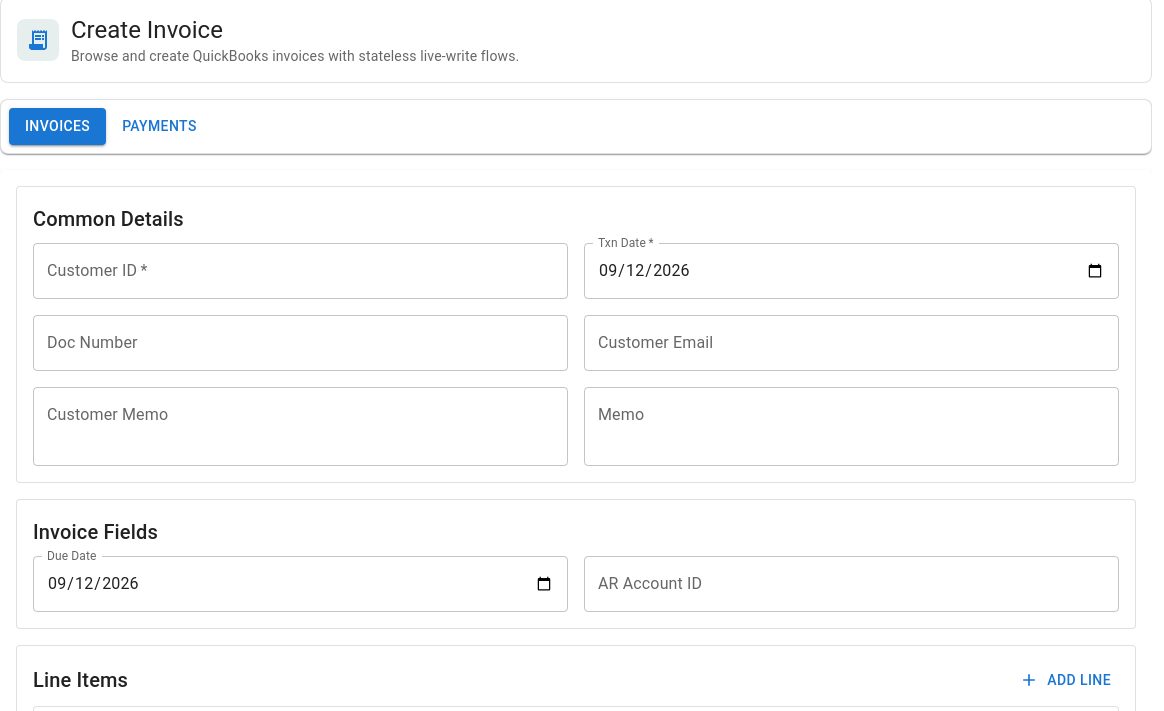
Test: QuickBooks write pages › creates a write transaction and refetches by landing on detail
Type "cust-2" into the field labelled "Customer ID *".
click(300, 270); type("cust-2")  # box [33, 242, 568, 298]
(page scrolled)
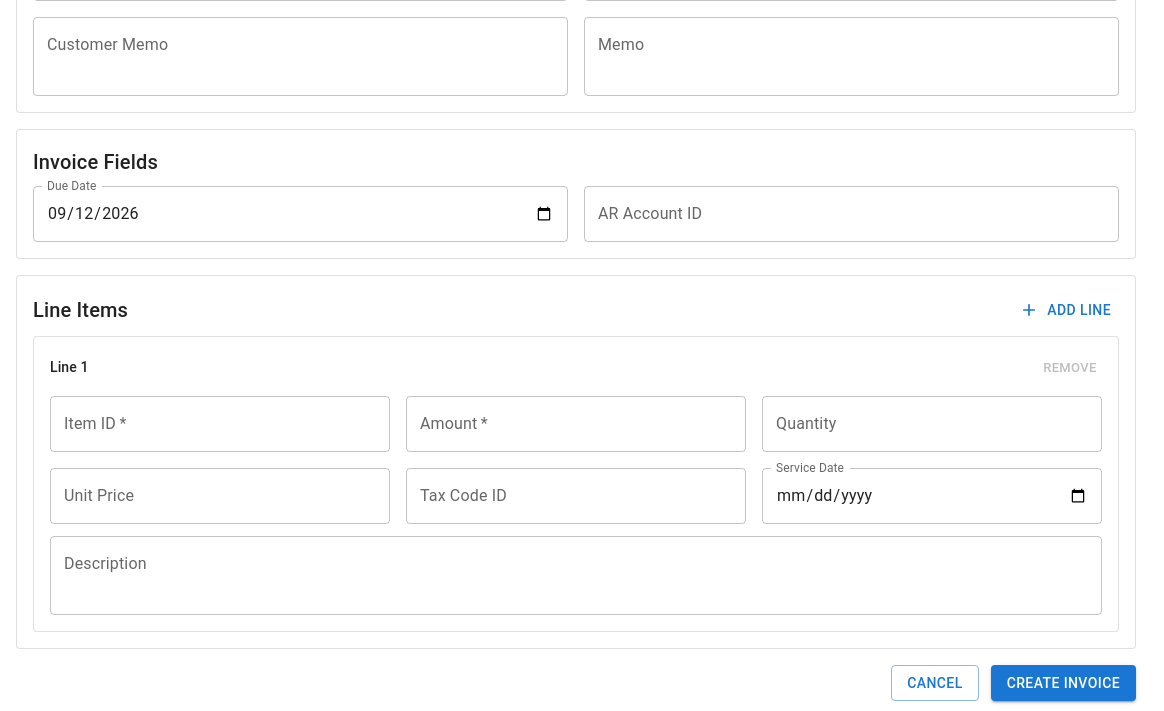
Type "item-1" into the field labelled "Item ID *".
click(220, 424); type("item-1")  # box [50, 396, 390, 452]
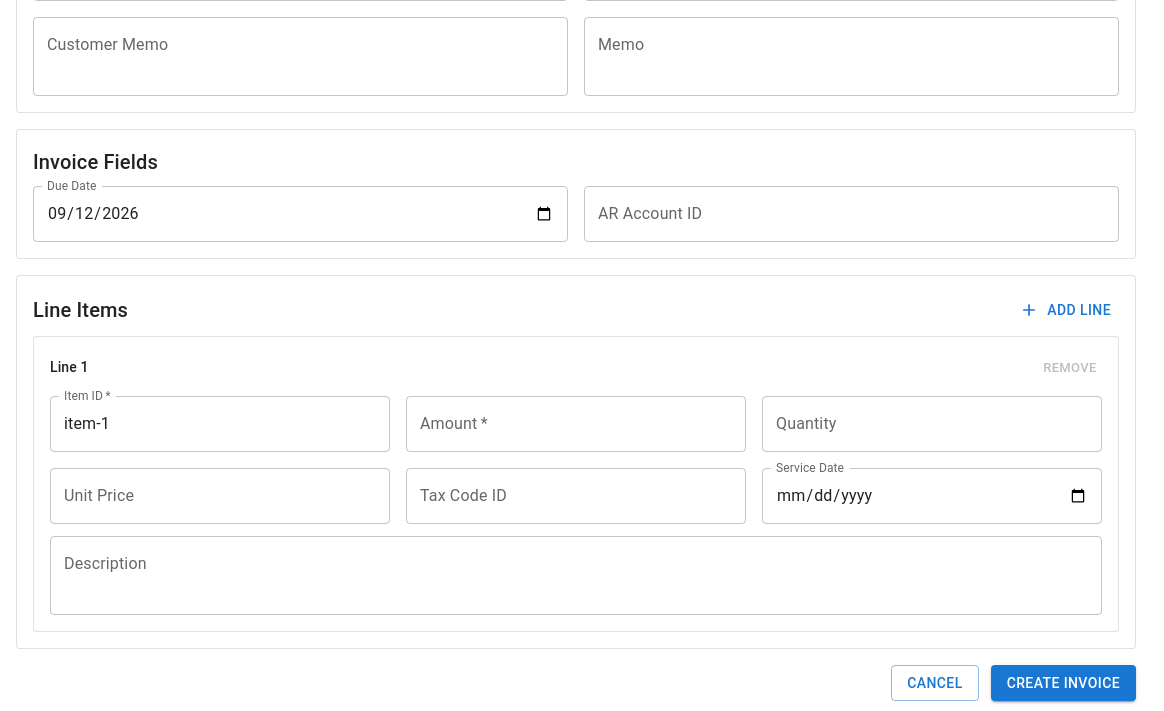
Type "45" into the number field labelled "Amount *".
click(576, 424); type("45")  # box [406, 396, 746, 452]
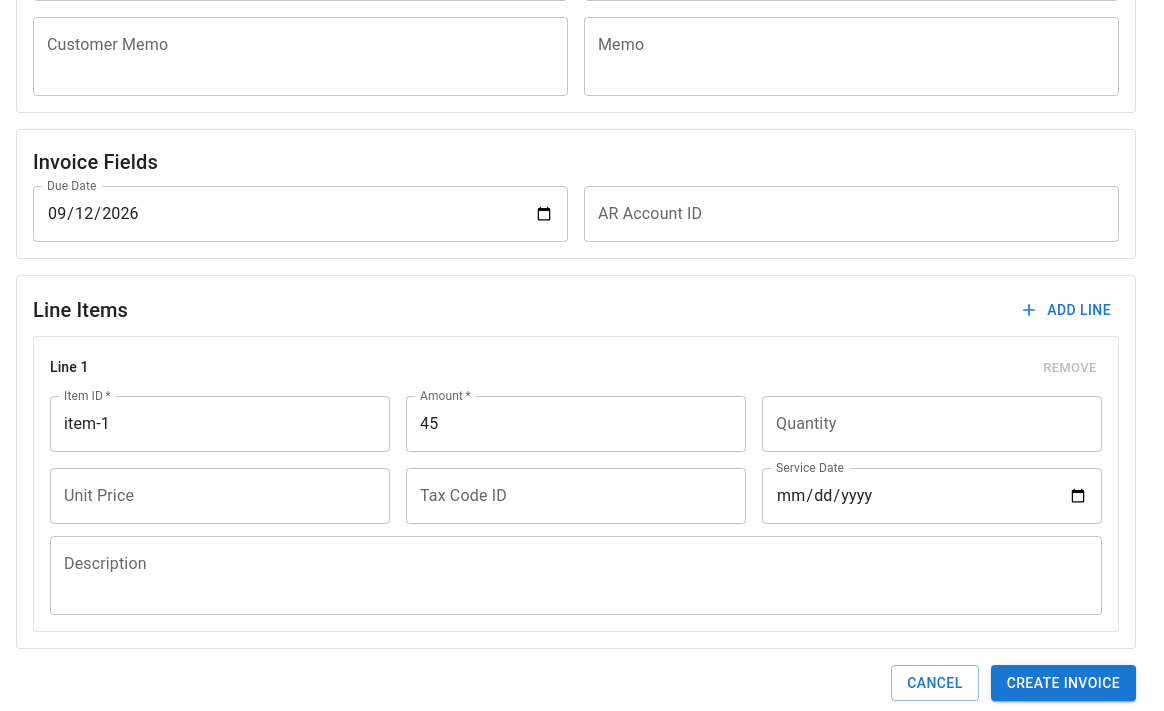
Click the button "Create Invoice".
click(1063, 683)  # box [991, 665, 1136, 701]
(page scrolled)
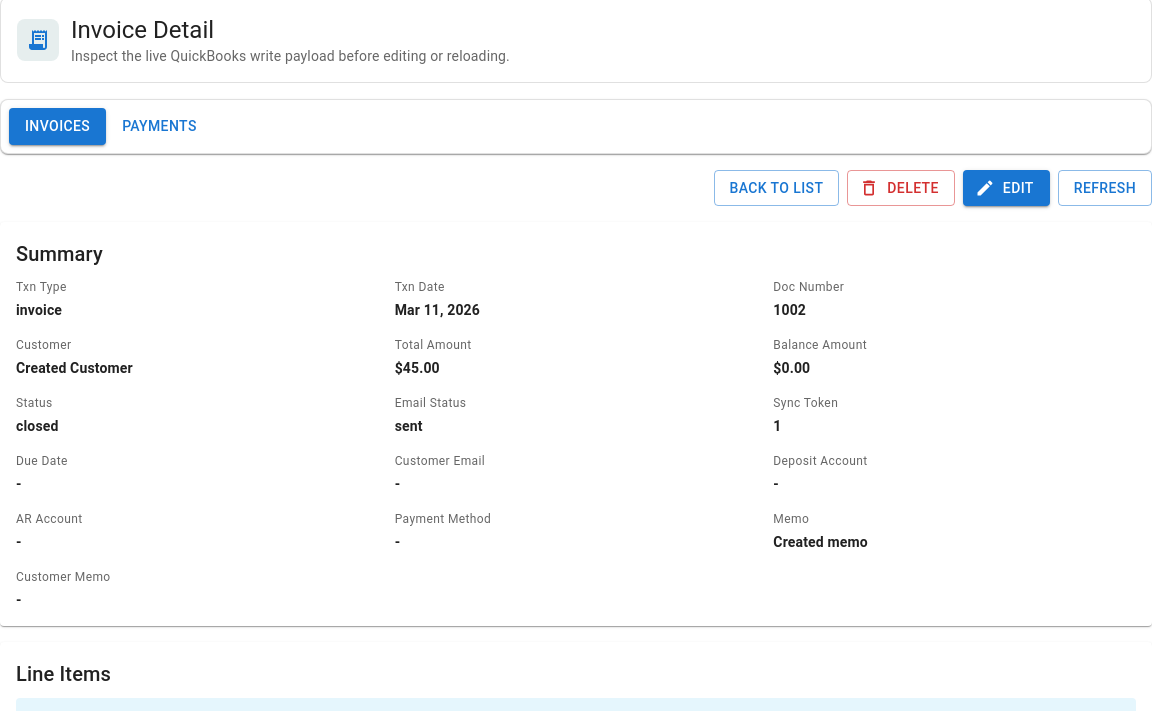
Result: the text "Created Customer" is shown at [16, 360, 133, 376]
